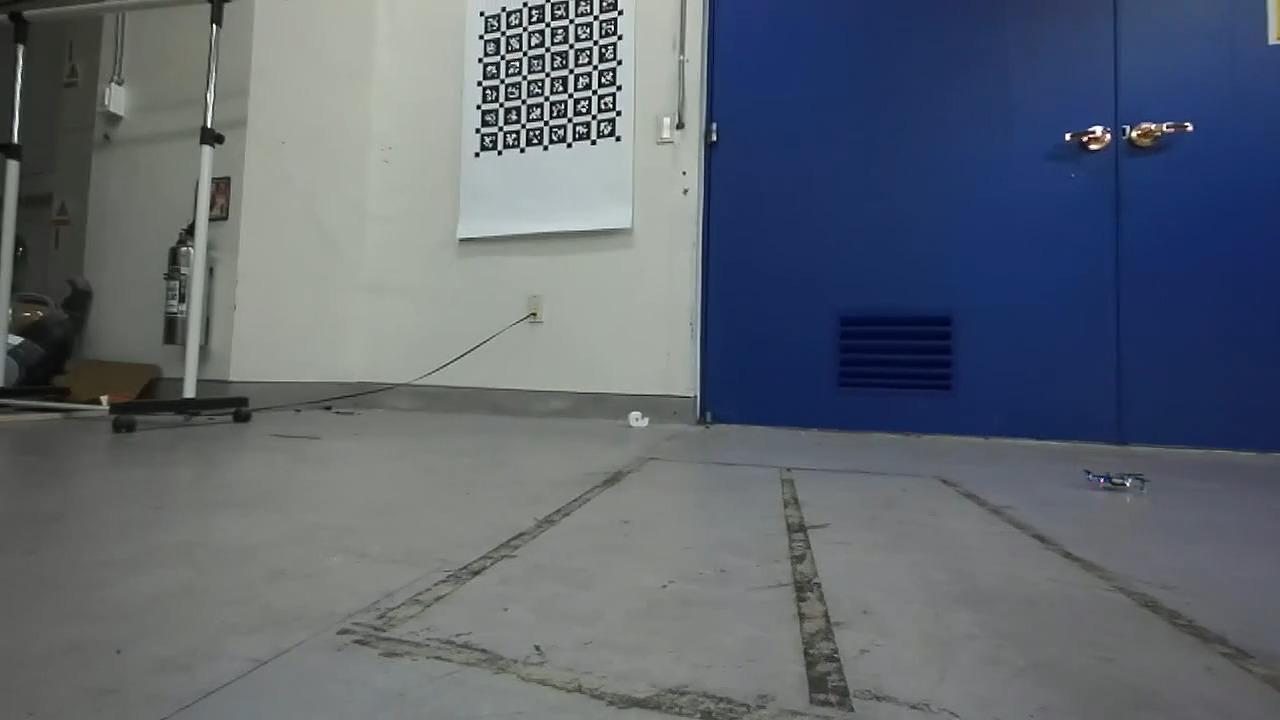crazyflie: (1080, 461, 1149, 497)
